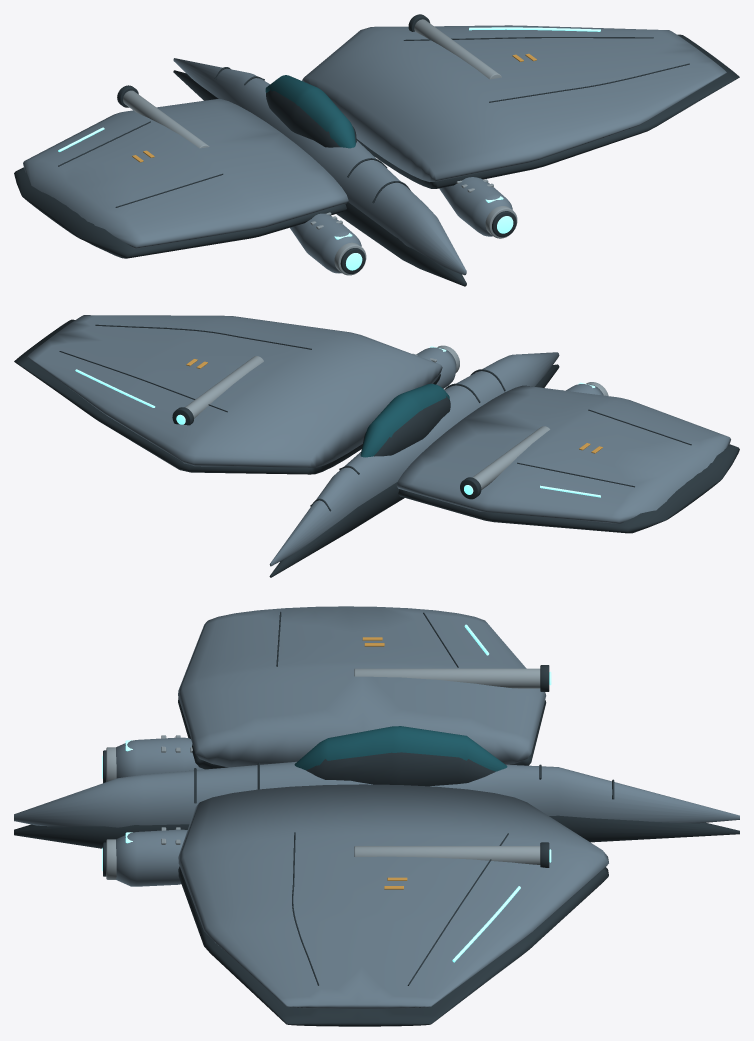
File: boss-5-p2.glb
3 views of the same model, one above another, from view 1: azimuth 30°, elevation 25°; view 2: azimuth 150°, elevation 25°; view 3: azimuth 270°, elevation 25° (orthographic). The views are drawn at different scales.
Parts seen in each view (by area): view 1: SM_Wing_Right, SM_Wing_Left, SM_Hull, SM_Engine_Right, SM_Engine_Left, SM_Weapon_Left, SM_Weapon_Right; view 2: SM_Wing_Right, SM_Wing_Left, SM_Hull, SM_Weapon_Left, SM_Weapon_Right, SM_Engine_Right; view 3: SM_Wing_Right, SM_Wing_Left, SM_Hull, SM_Engine_Right, SM_Engine_Left, SM_Weapon_Left, SM_Weapon_Right.
Boxes of the visible parts, <box> form: SM_Wing_Right: <box>302,25,739,188</box>; SM_Wing_Left: <box>14,99,348,258</box>; SM_Hull: <box>173,58,466,286</box>; SM_Engine_Right: <box>439,177,517,238</box>; SM_Engine_Left: <box>290,212,366,275</box>; SM_Weapon_Left: <box>117,85,209,148</box>; SM_Weapon_Right: <box>408,14,501,79</box>; SM_Wing_Right: <box>14,315,442,474</box>; SM_Wing_Left: <box>396,385,739,533</box>; SM_Hull: <box>269,352,559,577</box>; SM_Weapon_Left: <box>460,426,550,499</box>; SM_Weapon_Right: <box>172,356,263,425</box>; SM_Engine_Right: <box>412,345,459,388</box>; SM_Wing_Right: <box>178,784,608,1026</box>; SM_Wing_Left: <box>178,606,546,769</box>; SM_Hull: <box>14,726,739,848</box>; SM_Engine_Right: <box>102,827,187,886</box>; SM_Engine_Left: <box>102,735,204,783</box>; SM_Weapon_Left: <box>354,665,551,691</box>; SM_Weapon_Right: <box>354,842,551,867</box>.
Bounding box in the file's own units: 10.49 × 1.48 × 8.
